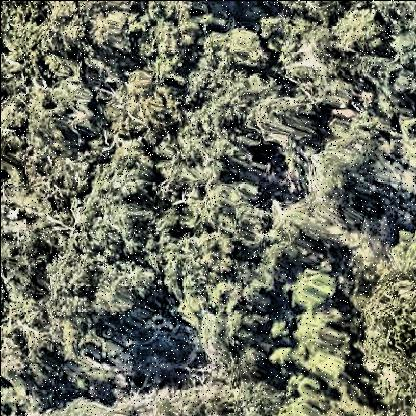tree-top: (149, 182, 269, 338), (38, 246, 148, 325), (357, 243, 416, 385), (298, 139, 366, 230), (100, 73, 183, 139), (290, 298, 354, 368), (214, 348, 277, 416), (89, 142, 157, 199), (1, 1, 44, 79), (246, 97, 311, 145), (284, 265, 340, 313), (331, 7, 386, 55), (45, 78, 97, 128), (86, 8, 134, 58), (273, 1, 351, 24), (268, 346, 296, 372)
